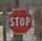stop: (5, 7, 32, 34)
